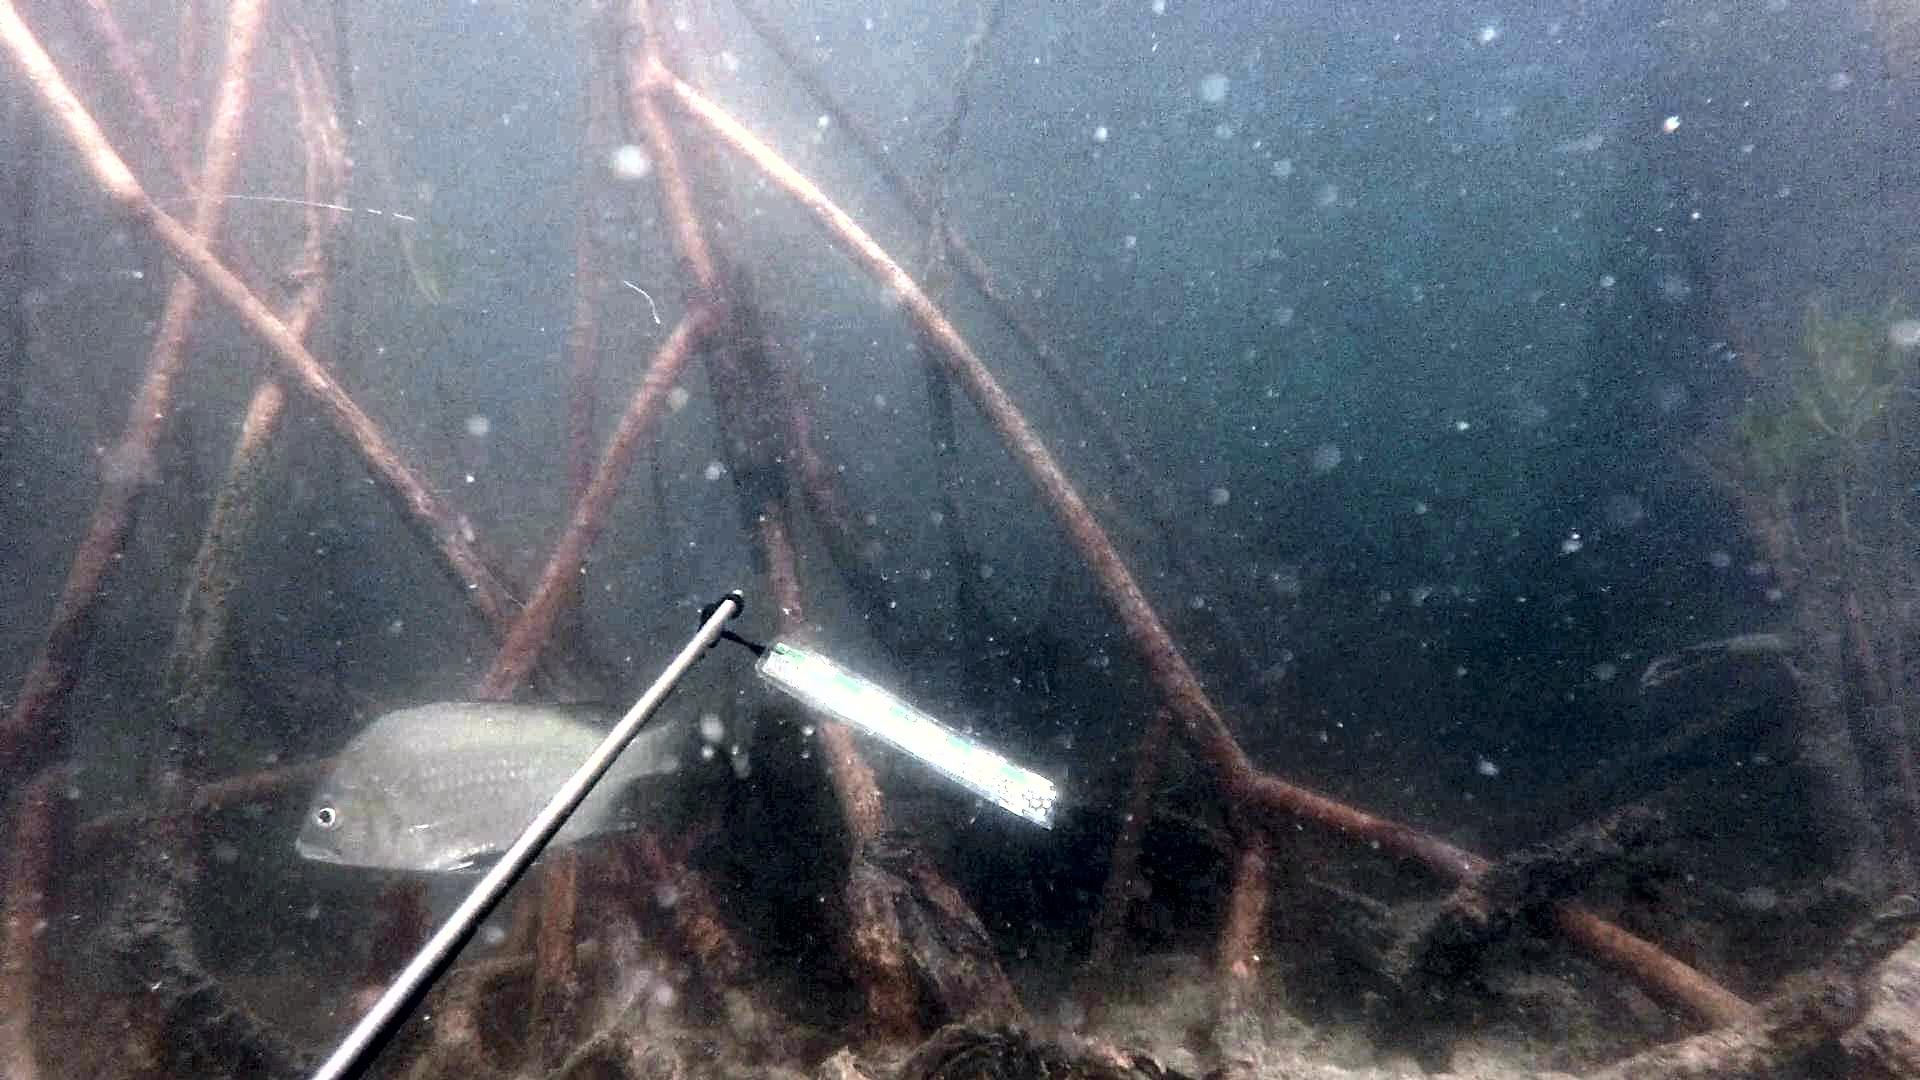acanthopagrus palmaris: (285, 690, 718, 896)
